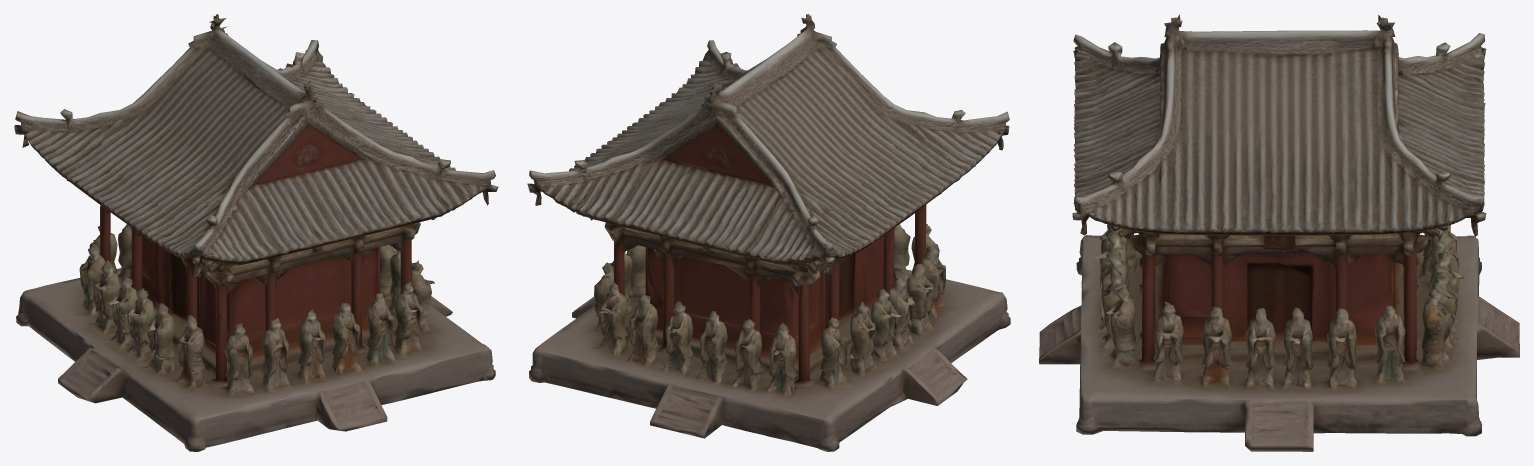
The model's file is building-chongqingsi.glb.
3 views of the same model, side by side, from view 1: azimuth 30°, elevation 25°; view 2: azimuth 150°, elevation 25°; view 3: azimuth 270°, elevation 25° (orthographic). The views are drawn at different scales.
Parts seen in each view (by area): view 1: node_14d49f55-8e4a-4786-bd18-1b01b59b1650; view 2: node_14d49f55-8e4a-4786-bd18-1b01b59b1650; view 3: node_14d49f55-8e4a-4786-bd18-1b01b59b1650.
Part boxes in pixels (left/top/right/bottom): node_14d49f55-8e4a-4786-bd18-1b01b59b1650: left=14, top=14, right=498, bottom=451; node_14d49f55-8e4a-4786-bd18-1b01b59b1650: left=527, top=14, right=1010, bottom=451; node_14d49f55-8e4a-4786-bd18-1b01b59b1650: left=1039, top=14, right=1519, bottom=451.
Size of the model in its own units: 0.9911 by 0.7805 by 1.
1 material, 1 textured.
